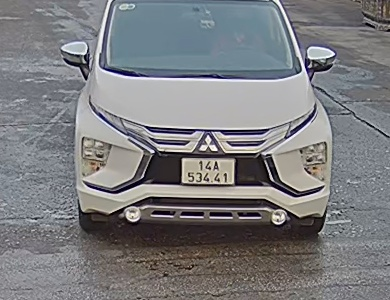vehicle plate: (175, 151, 236, 185)
